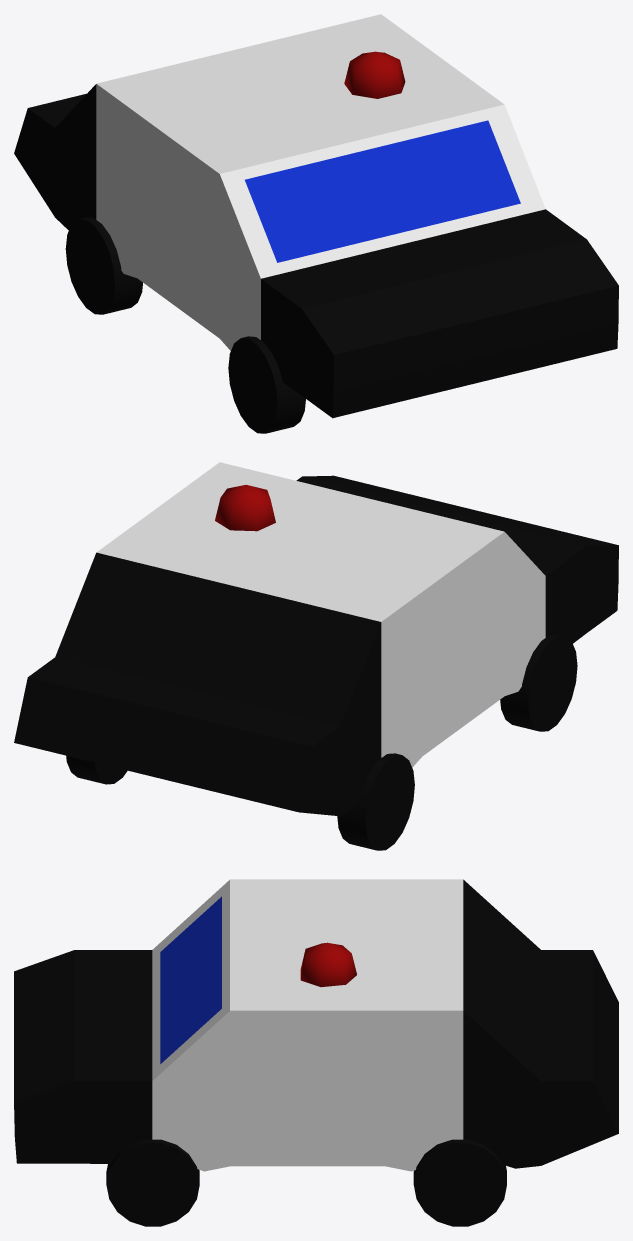
File: CarPolice.FBX
The picture shows the model from 3 angles, top to bottom: view 1: azimuth 30°, elevation 25°; view 2: azimuth 150°, elevation 25°; view 3: azimuth 270°, elevation 25°; orthographic projection. The views are drawn at different scales.
Parts seen in each view (by area): view 1: Object001, Cylinder001, Cylinder003, Sphere001; view 2: Object001, Cylinder003, Cylinder001, Sphere001, Cylinder004; view 3: Object001, Cylinder004, Cylinder002, Sphere001.
Boxes of the visible parts, x1,y1,x2,y2 form: Object001: (14,14,618,418); Cylinder001: (228,336,305,433); Cylinder003: (65,217,142,314); Sphere001: (344,51,405,98); Object001: (14,462,618,816); Cylinder003: (337,753,414,850); Cylinder001: (500,634,577,731); Sphere001: (215,485,275,531); Cylinder004: (66,755,127,784); Object001: (14,879,618,1171); Cylinder004: (413,1139,506,1226); Cylinder002: (106,1139,199,1226); Sphere001: (300,942,356,987).
Size of the model in its own units: 105 by 86.63 by 194.
